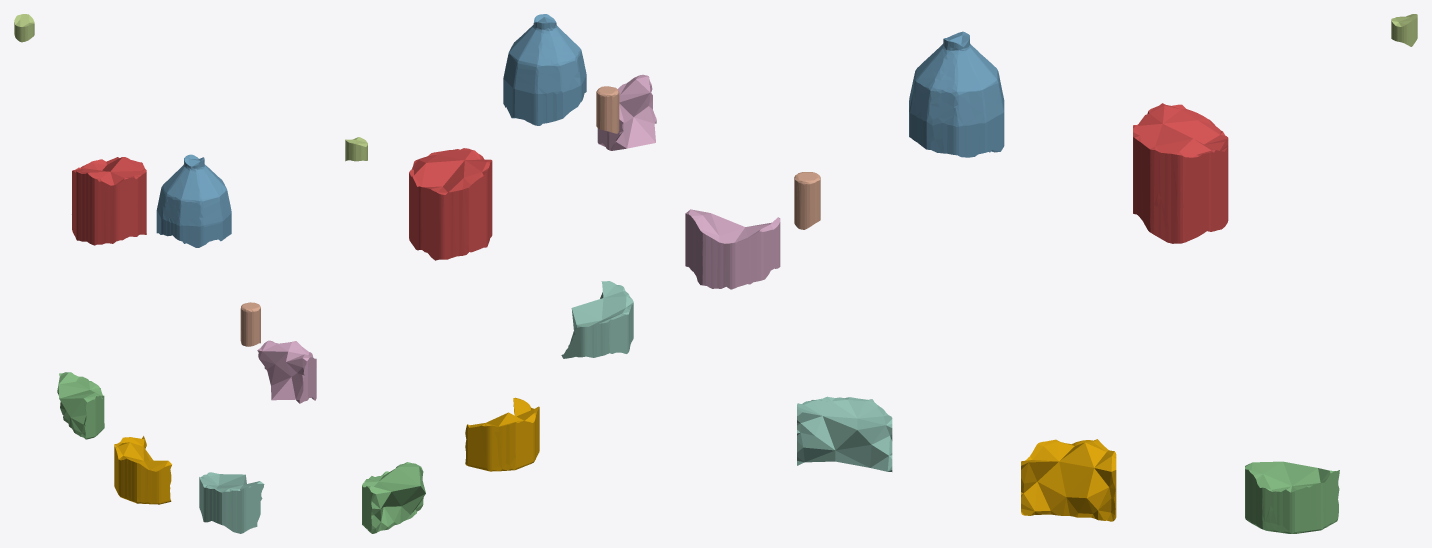
File: fractured_11_8pcs_transformed.glb
3 views of the same model, side by side, from view 1: azimuth 30°, elevation 25°; view 2: azimuth 150°, elevation 25°; view 3: azimuth 270°, elevation 25° (orthographic). The views are drawn at different scales.
Visible parts, largest first — view 1: piece_1.obj, piece_2.obj, piece_4.obj, piece_0.obj, piece_6.obj, piece_3.obj, piece_7.obj, piece_5.obj; view 2: piece_1.obj, piece_2.obj, piece_0.obj, piece_4.obj, piece_3.obj, piece_6.obj, piece_7.obj, piece_5.obj; view 3: piece_1.obj, piece_2.obj, piece_0.obj, piece_4.obj, piece_3.obj, piece_6.obj, piece_7.obj.
Boxes of the visible parts, x1,y1,x2,y2 form: piece_1.obj: (72, 157, 146, 245); piece_2.obj: (156, 154, 231, 247); piece_4.obj: (199, 472, 264, 533); piece_0.obj: (114, 436, 171, 504); piece_6.obj: (257, 340, 316, 403); piece_3.obj: (57, 372, 104, 439); piece_7.obj: (240, 302, 260, 346); piece_5.obj: (14, 14, 34, 42); piece_1.obj: (409, 148, 492, 260); piece_2.obj: (503, 14, 586, 125); piece_0.obj: (465, 397, 539, 471); piece_4.obj: (561, 281, 633, 358); piece_3.obj: (362, 462, 425, 533); piece_6.obj: (597, 74, 656, 150); piece_7.obj: (596, 86, 619, 133); piece_5.obj: (345, 137, 367, 161); piece_1.obj: (1133, 103, 1228, 243); piece_2.obj: (909, 31, 1004, 157); piece_0.obj: (1021, 439, 1116, 521); piece_4.obj: (797, 396, 892, 471); piece_3.obj: (1245, 461, 1339, 533); piece_6.obj: (685, 209, 780, 289); piece_7.obj: (794, 172, 820, 229).
Bounding box in the file's own units: 0.2657 × 1.47 × 1.96.
